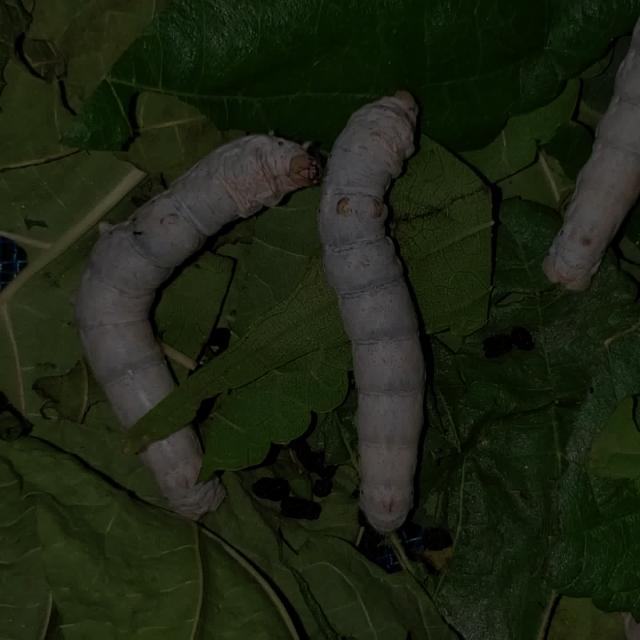Healthy: (64, 110, 314, 520), (320, 85, 457, 538)
